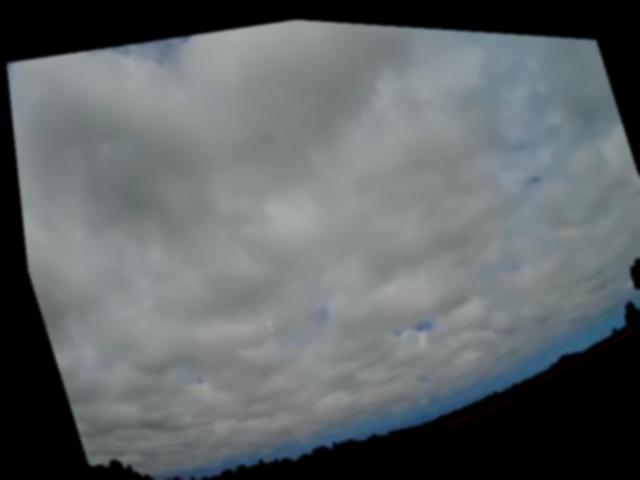uav: (248, 306, 278, 339)
